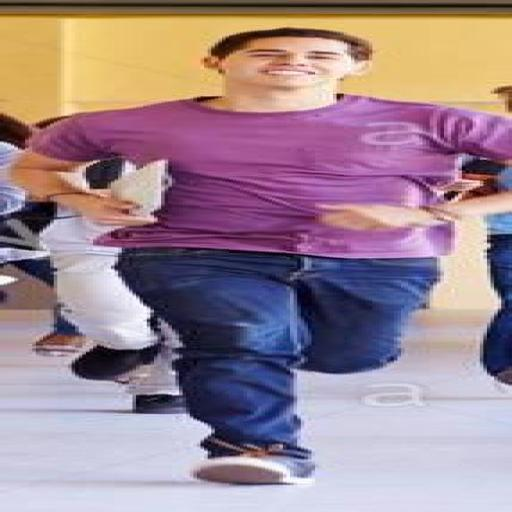person: (15, 28, 511, 483), (0, 198, 53, 286), (484, 213, 511, 384)
